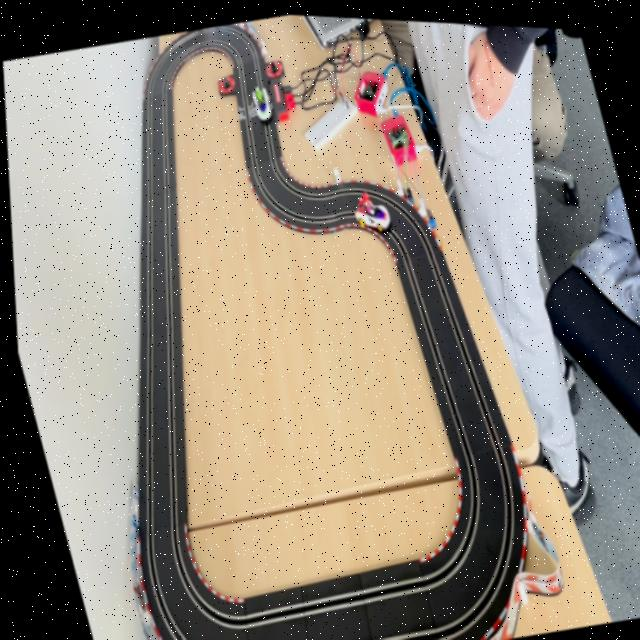mario: (350, 186, 394, 233)
yoshi: (250, 81, 274, 121)
